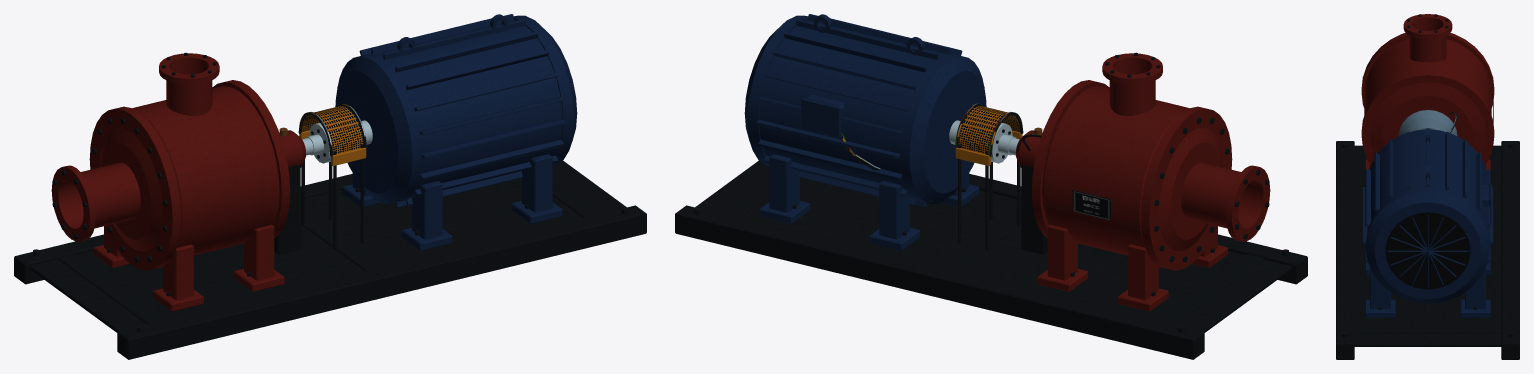
Rendered from assembled.obj.
3 views of the same model, side by side, from view 1: azimuth 30°, elevation 25°; view 2: azimuth 150°, elevation 25°; view 3: azimuth 270°, elevation 25° (orthographic). The views are drawn at different scales.
Parts seen in each view (by area): view 1: hpcs_pump; view 2: hpcs_pump; view 3: hpcs_pump.
Part boxes in pixels (left/top/right/bottom): hpcs_pump: left=14, top=14, right=646, bottom=359; hpcs_pump: left=675, top=14, right=1307, bottom=359; hpcs_pump: left=1336, top=14, right=1519, bottom=359.
Bounding box in the file's own units: 7.51 × 3.1 × 2.86.
